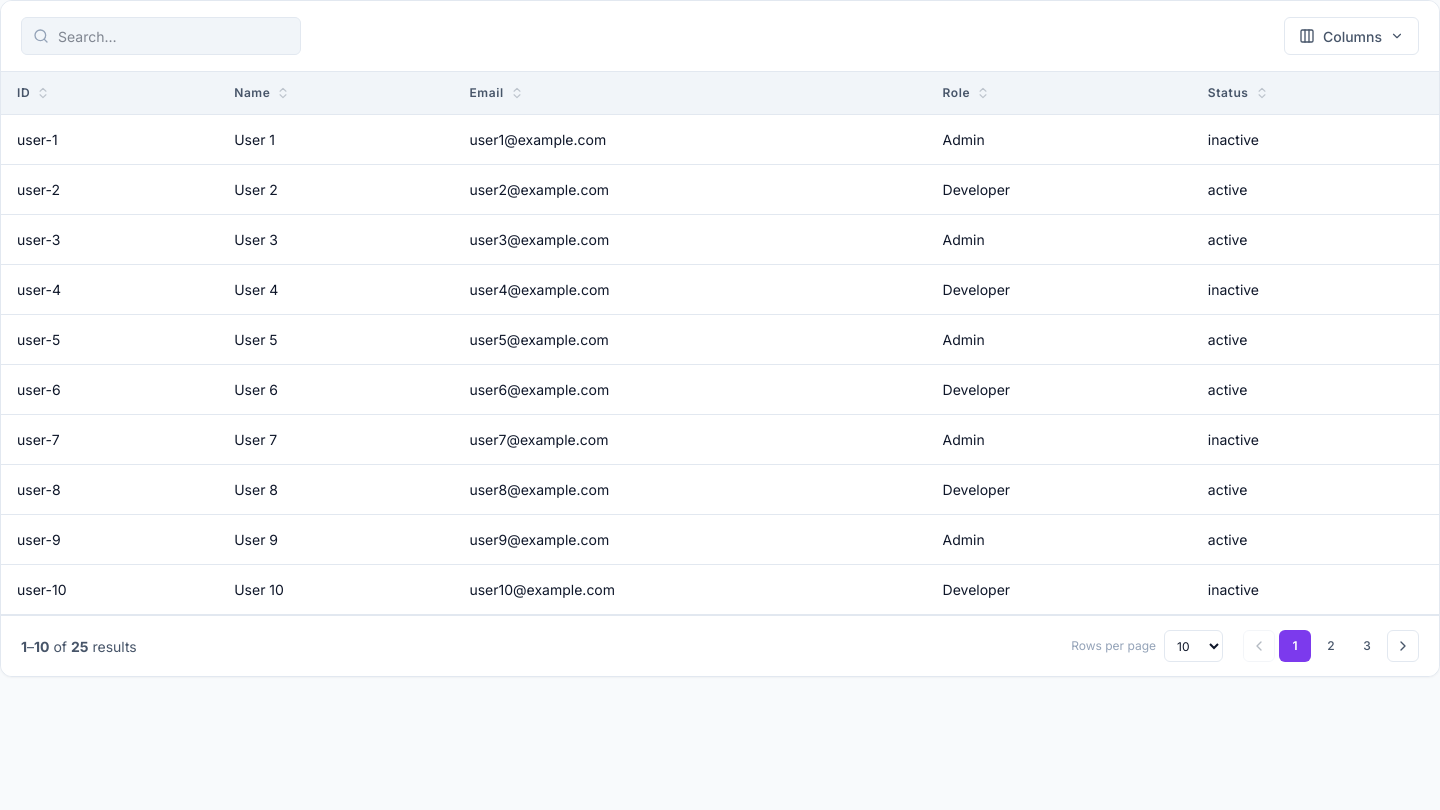
Test: DataTable Infrastructure › paginates data correctly
Expected: the text "User 1" is shown, x1=218 y1=115 x2=454 y2=165
Expected: the text "User 10" is shown, x1=218 y1=565 x2=454 y2=615
Note: Click next page
Click the button named "Next page" at (1403, 646), box x1=1387 y1=630 x2=1419 y2=662
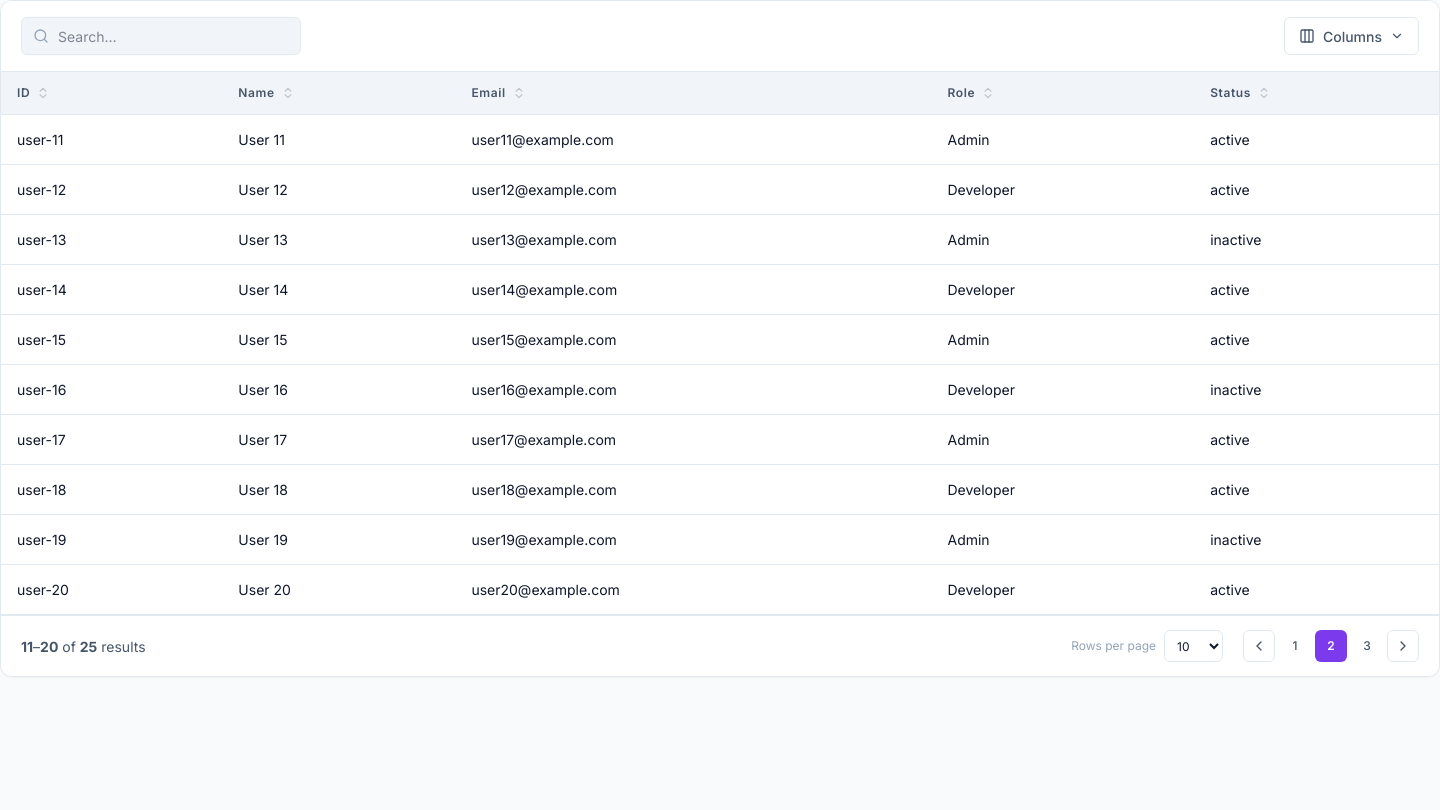
Result: the text "User 11" is shown at x1=222 y1=115 x2=455 y2=165
